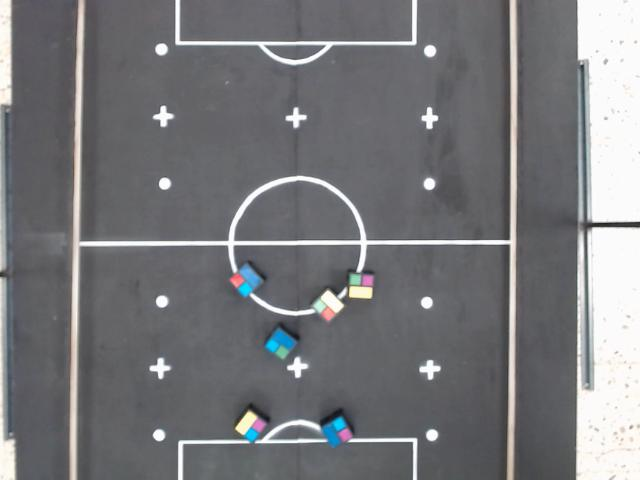robot: (308, 286, 346, 324), (227, 262, 264, 300), (261, 326, 298, 362), (234, 410, 268, 445), (320, 415, 353, 449), (345, 271, 375, 301)
